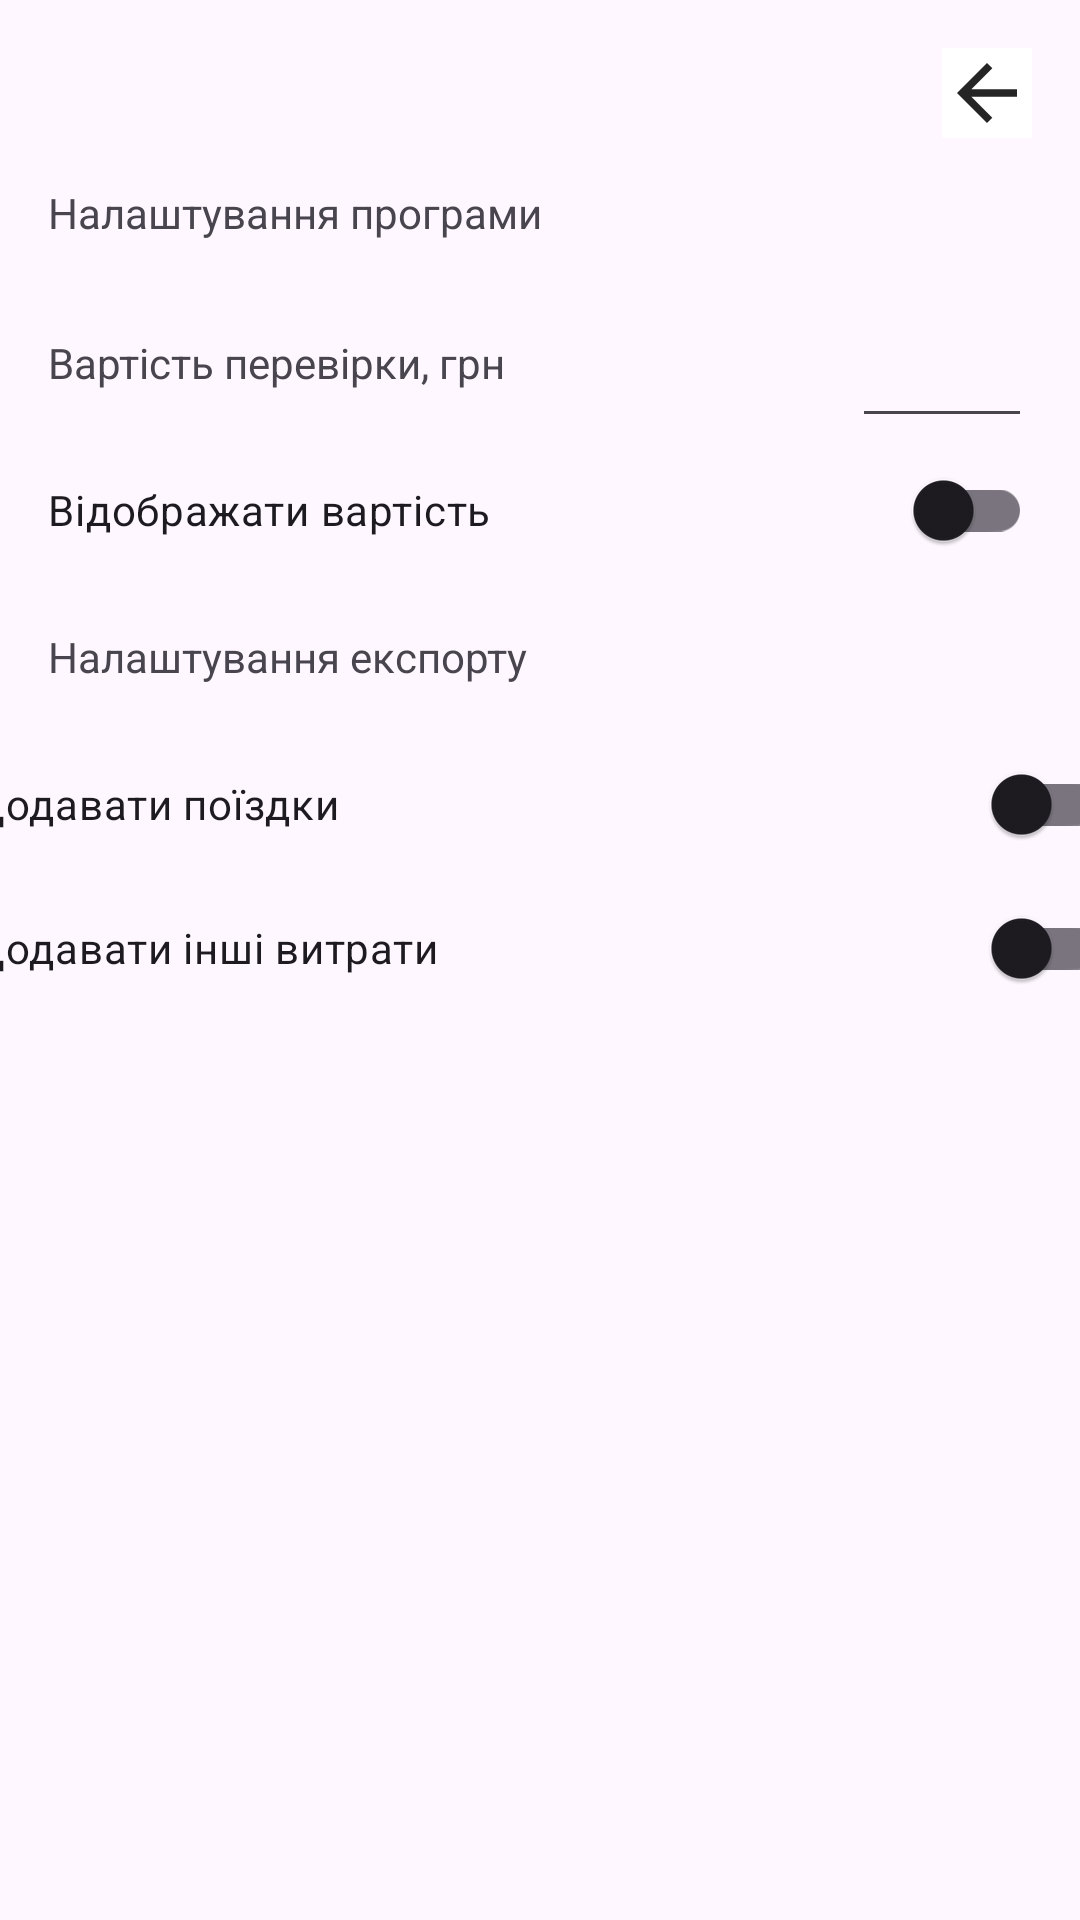

Icons on this 1080×1920 Android screen, each with its box as {"x1": x1, "y1": y1, "x2": x2, "y2": y2}:
arrow back: {"x1": 957, "y1": 63, "x2": 1017, "y2": 123}
